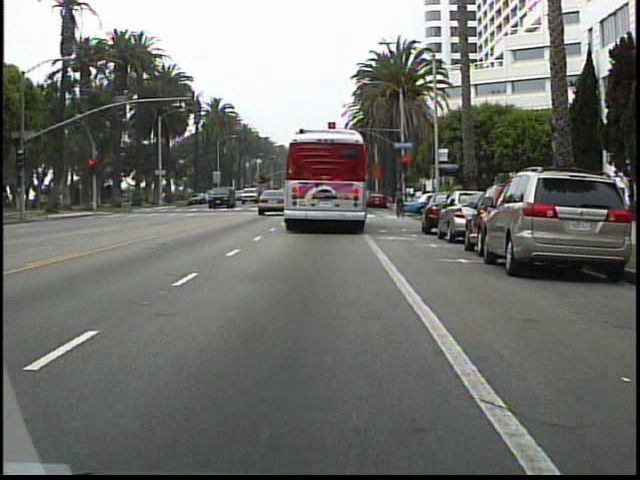person: (390, 184, 408, 216)
